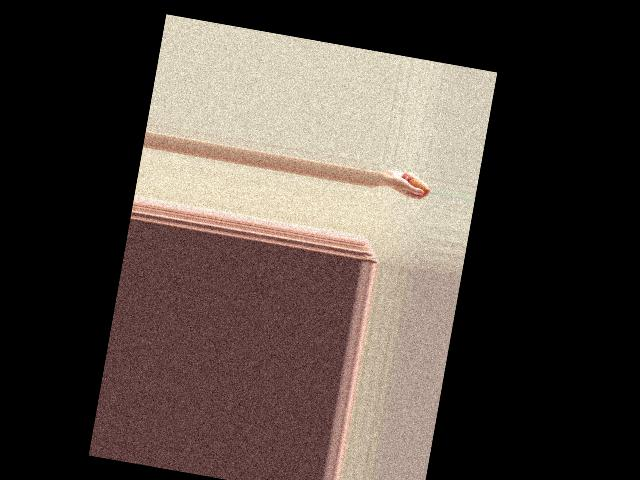egg: (407, 176, 429, 194)
